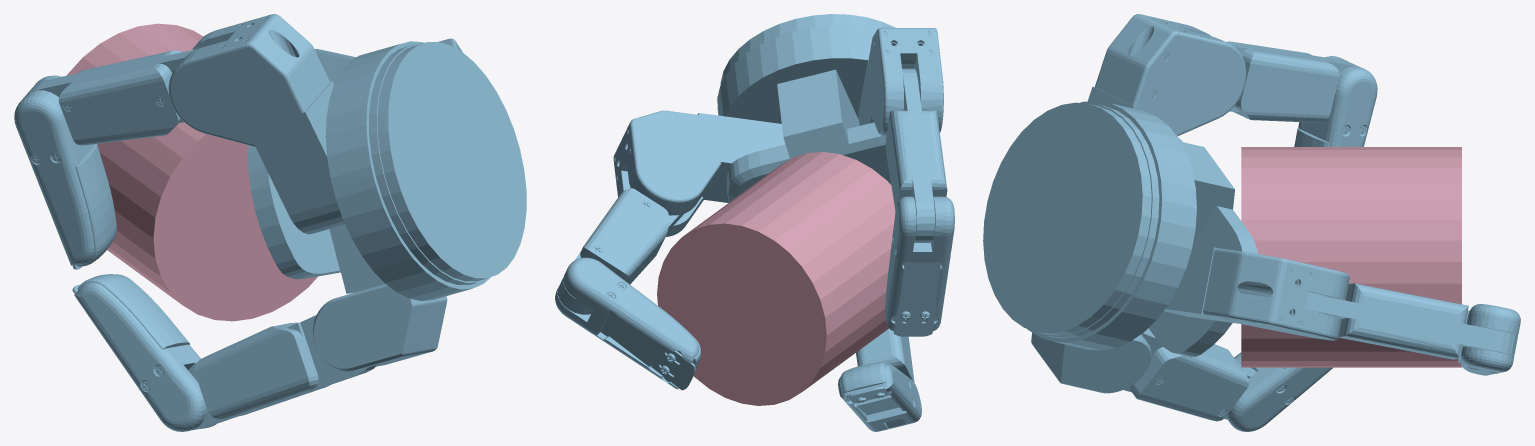
3 renders of one model, left to right at view 1: azimuth 30°, elevation 25°; view 2: azimuth 150°, elevation 25°; view 3: azimuth 270°, elevation 25°, orthographic. The views are drawn at different scales.
Parts seen in each view (by area): view 1: world; view 2: world; view 3: world.
Part boxes in pixels (x1,y1,x2,y2): world: [14, 14, 526, 431]; world: [555, 14, 954, 431]; world: [983, 14, 1520, 431].
Bounding box in the file's own units: 0.1743 × 0.1662 × 0.1949.
